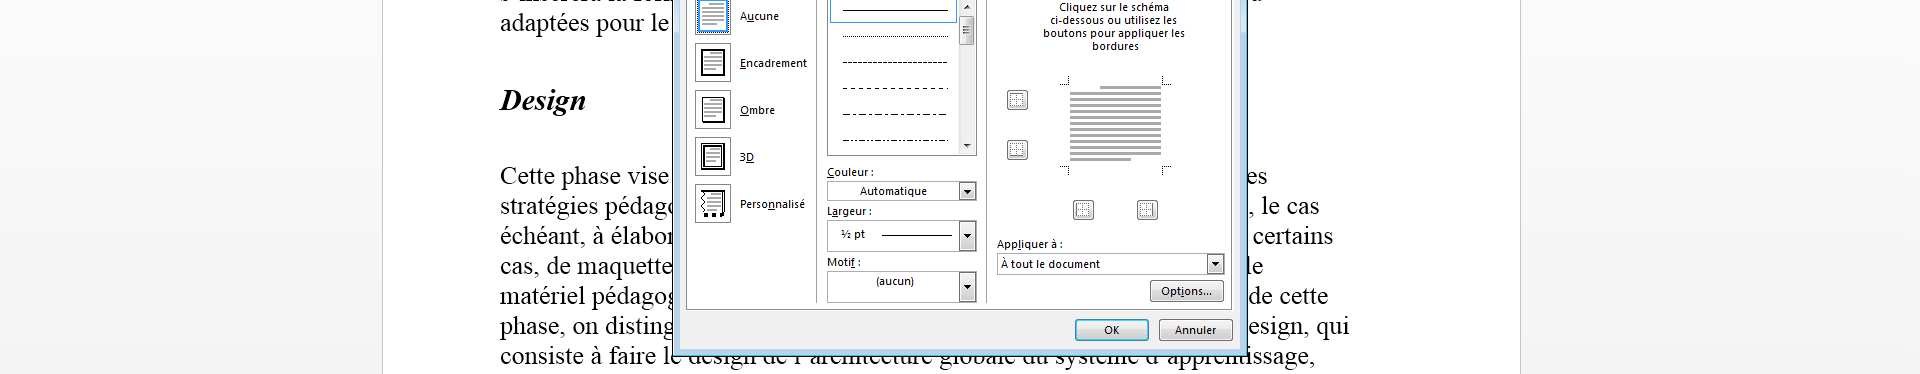texte: (501, 0, 589, 37), (500, 90, 585, 116), (577, 258, 661, 280), (591, 286, 666, 310), (596, 0, 644, 37), (500, 286, 585, 304), (500, 316, 564, 340), (501, 346, 583, 364), (561, 166, 620, 190), (1254, 226, 1332, 244), (873, 261, 913, 296), (1249, 316, 1308, 340), (1151, 280, 1223, 298), (997, 234, 1048, 256), (1254, 352, 1314, 370), (606, 316, 662, 334), (501, 167, 553, 184), (609, 346, 656, 364), (1280, 288, 1329, 304), (628, 166, 669, 184), (1318, 316, 1349, 340), (860, 186, 926, 197), (828, 251, 855, 273), (501, 262, 538, 278), (1000, 258, 1044, 269), (1119, 29, 1168, 39), (1007, 90, 1029, 110), (1051, 16, 1103, 25), (1007, 140, 1029, 159), (1049, 260, 1100, 269), (1249, 286, 1272, 304), (827, 168, 868, 178), (1060, 2, 1097, 13), (547, 256, 571, 273), (1138, 201, 1158, 219), (1093, 42, 1138, 50), (1288, 202, 1319, 215), (828, 207, 866, 217), (1131, 2, 1168, 11), (1076, 201, 1093, 219), (1262, 196, 1280, 215), (1044, 29, 1086, 37), (1176, 326, 1216, 334), (651, 13, 669, 31), (1125, 16, 1160, 25), (573, 322, 598, 334), (1247, 172, 1267, 184), (1037, 253, 1047, 276), (842, 231, 864, 240), (1091, 31, 1116, 39), (591, 346, 601, 364), (842, 140, 945, 141), (664, 346, 670, 364), (1104, 326, 1119, 334), (1253, 262, 1262, 273), (1164, 16, 1176, 25), (1101, 5, 1116, 11), (1172, 29, 1184, 37), (1108, 18, 1120, 25), (1120, 2, 1127, 11), (1212, 262, 1220, 266), (1053, 239, 1056, 248), (1250, 212, 1253, 217)
